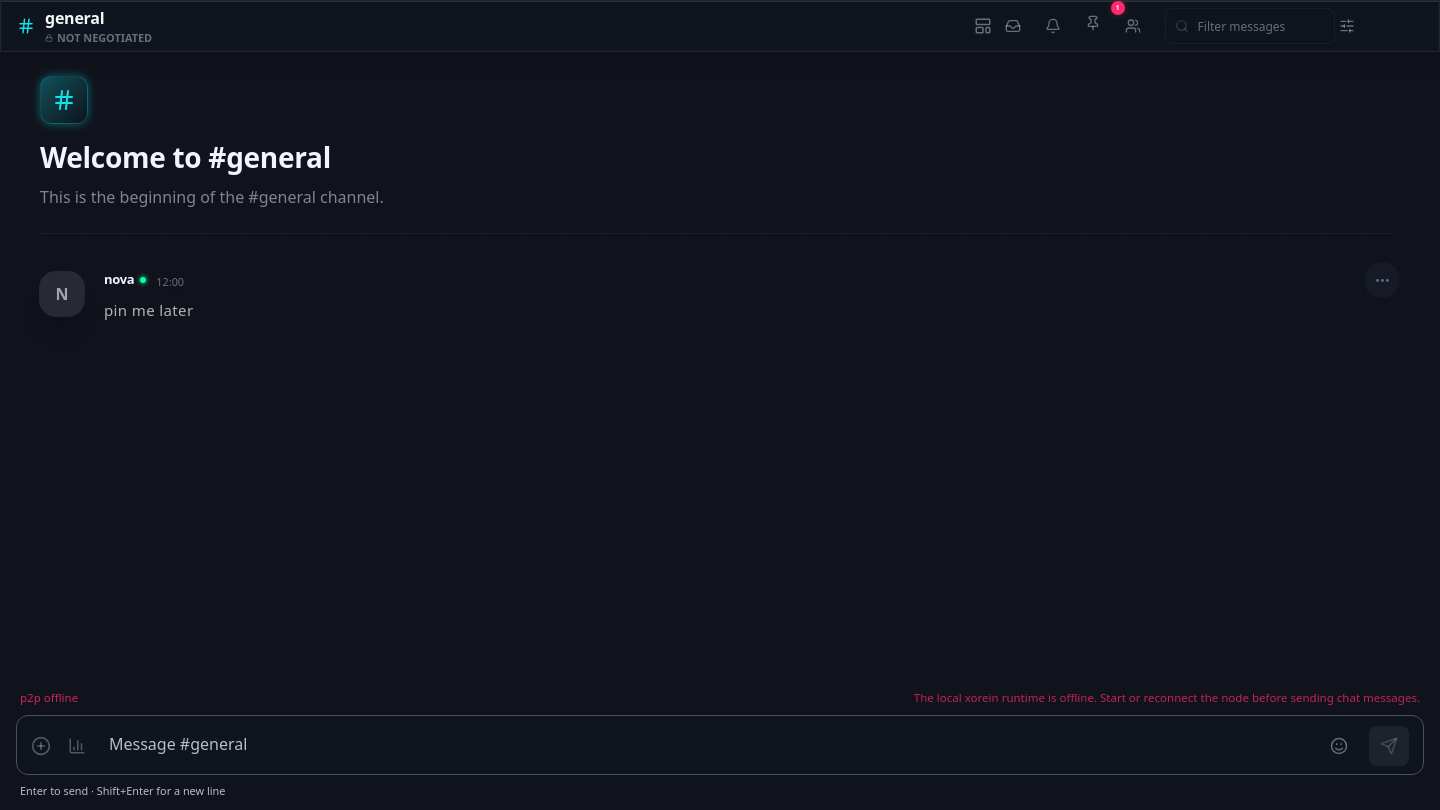
ChatArea persisted-scope merge (live runtime data wins) › renders a REMOTE pin even when a stale persisted copy exists
// And the pinned drawer must actually list the message (not the empty state).
Click the button named "Pinned Messages". click: (1103,23)
box: x1=1085 y1=5 x2=1121 y2=41
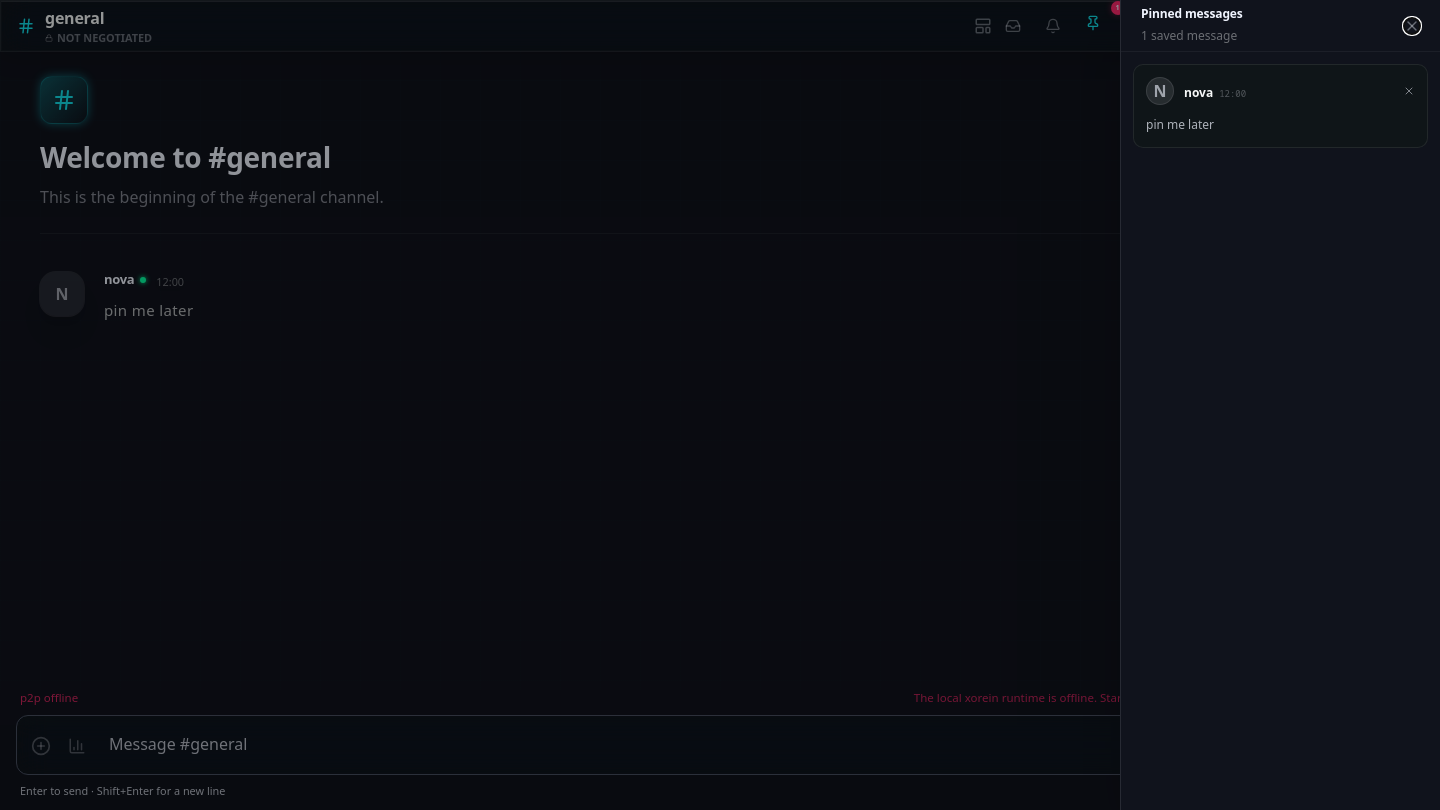
Check: the text "1 saved message" is shown, box x1=1141 y1=26 x2=1237 y2=44
